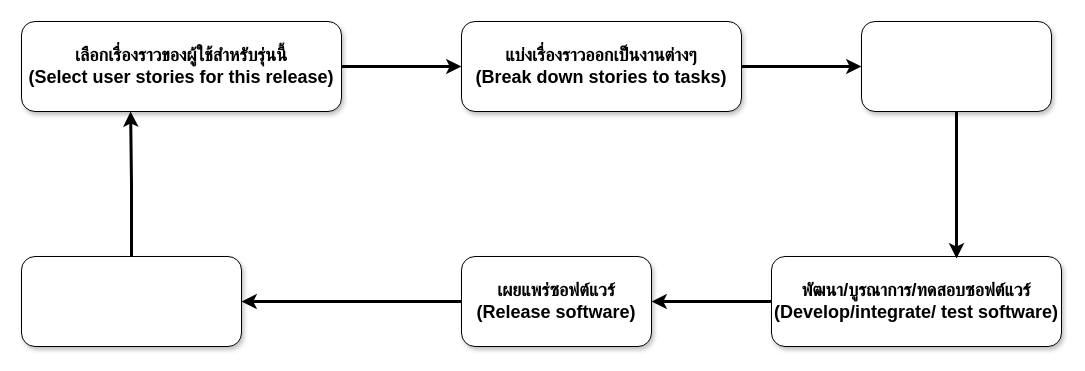
The diagram is 1085 pixels wide and 371 high, and some of its shapes have lost their labels. Here are the shapes that lost their labels. From the top down, the centre of each, then its label:
At point 957,67: "ปล่อยแผน ( Plan release )".
At point 132,303: "ประเมินระบบ ( Evaluate system )".
